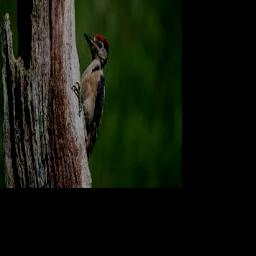Woodpecker: (80, 34, 109, 158)
